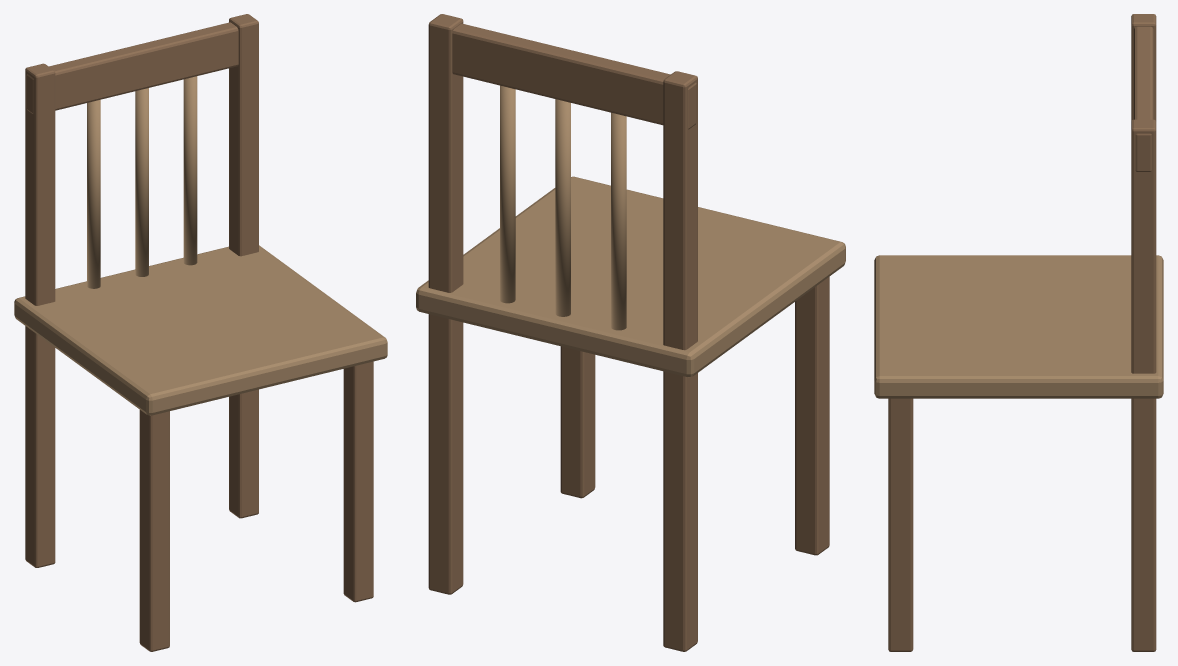
The model's file is wooden_chair.glb.
The picture shows the model from 3 angles, left to right: view 1: azimuth 30°, elevation 25°; view 2: azimuth 150°, elevation 25°; view 3: azimuth 270°, elevation 25°; orthographic projection. The views are drawn at different scales.
Visible parts, largest first — view 1: Seat, BackPost_-0.19, BackPost_0.19, TopRail, FrontLeg_-0.19, FrontLeg_0.19, Spindle_0.09, Spindle_-0.09, Spindle_0.0; view 2: Seat, BackPost_0.19, BackPost_-0.19, TopRail, FrontLeg_-0.19, FrontLeg_0.19, Spindle_0.0, Spindle_-0.09, Spindle_0.09; view 3: Seat, BackPost_0.19, FrontLeg_0.19, TopRail, BackPost_-0.19.
Boxes of the visible parts, x1,y1,x2,y2 form: Seat: (14, 245, 387, 415); BackPost_-0.19: (25, 63, 55, 567); BackPost_0.19: (229, 14, 258, 518); TopRail: (26, 22, 238, 114); FrontLeg_-0.19: (139, 410, 169, 651); FrontLeg_0.19: (343, 361, 373, 602); Spindle_0.09: (183, 76, 197, 265); Spindle_-0.09: (87, 99, 100, 288); Spindle_0.0: (135, 88, 148, 276); Seat: (416, 176, 845, 377); BackPost_0.19: (428, 14, 463, 594); BackPost_-0.19: (663, 71, 697, 651); TopRail: (452, 23, 696, 129); FrontLeg_-0.19: (795, 276, 829, 555); FrontLeg_0.19: (560, 346, 595, 498); Spindle_0.0: (555, 99, 570, 316); Spindle_-0.09: (611, 112, 626, 330); Spindle_0.09: (500, 85, 515, 303); Seat: (874, 255, 1163, 398); BackPost_0.19: (1131, 119, 1156, 651); FrontLeg_0.19: (888, 398, 913, 651); TopRail: (1134, 26, 1153, 171); BackPost_-0.19: (1131, 14, 1156, 121).
Bounding box in the file's own units: 0.45 × 0.88 × 0.44.
